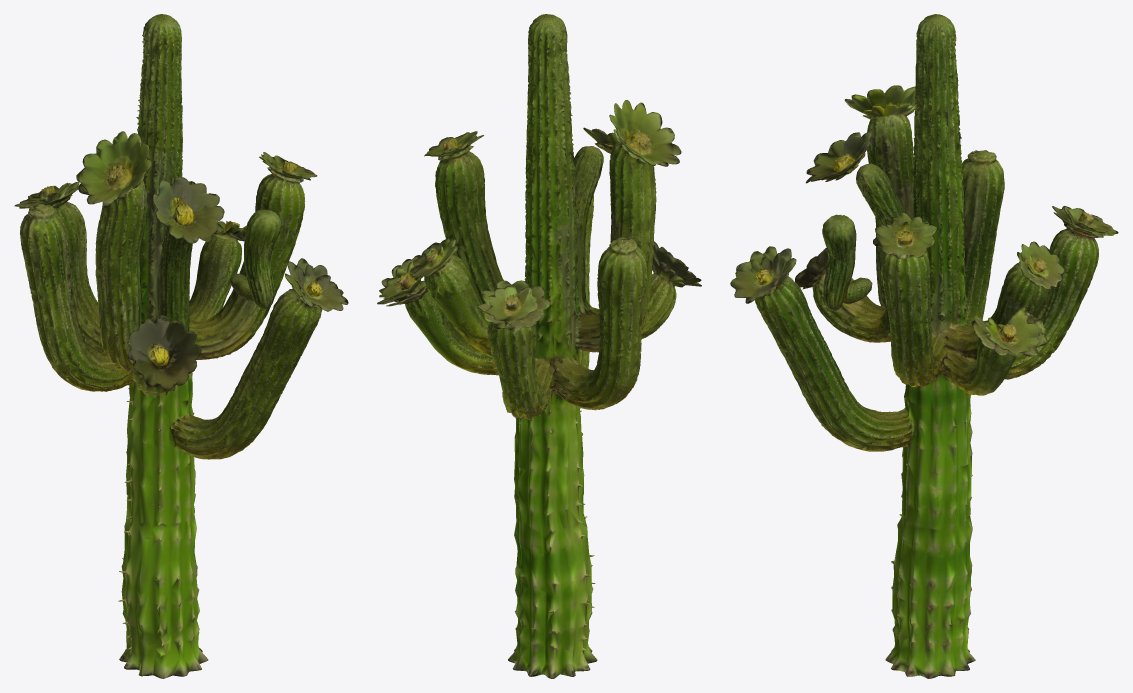
Rendered from cactus_tall.glb.
3 views of the same model, side by side, from view 1: azimuth 30°, elevation 25°; view 2: azimuth 150°, elevation 25°; view 3: azimuth 270°, elevation 25° (orthographic).
Bounding box in the file's own units: 0.8145 × 2 × 1.09.
1 material, 1 textured.
